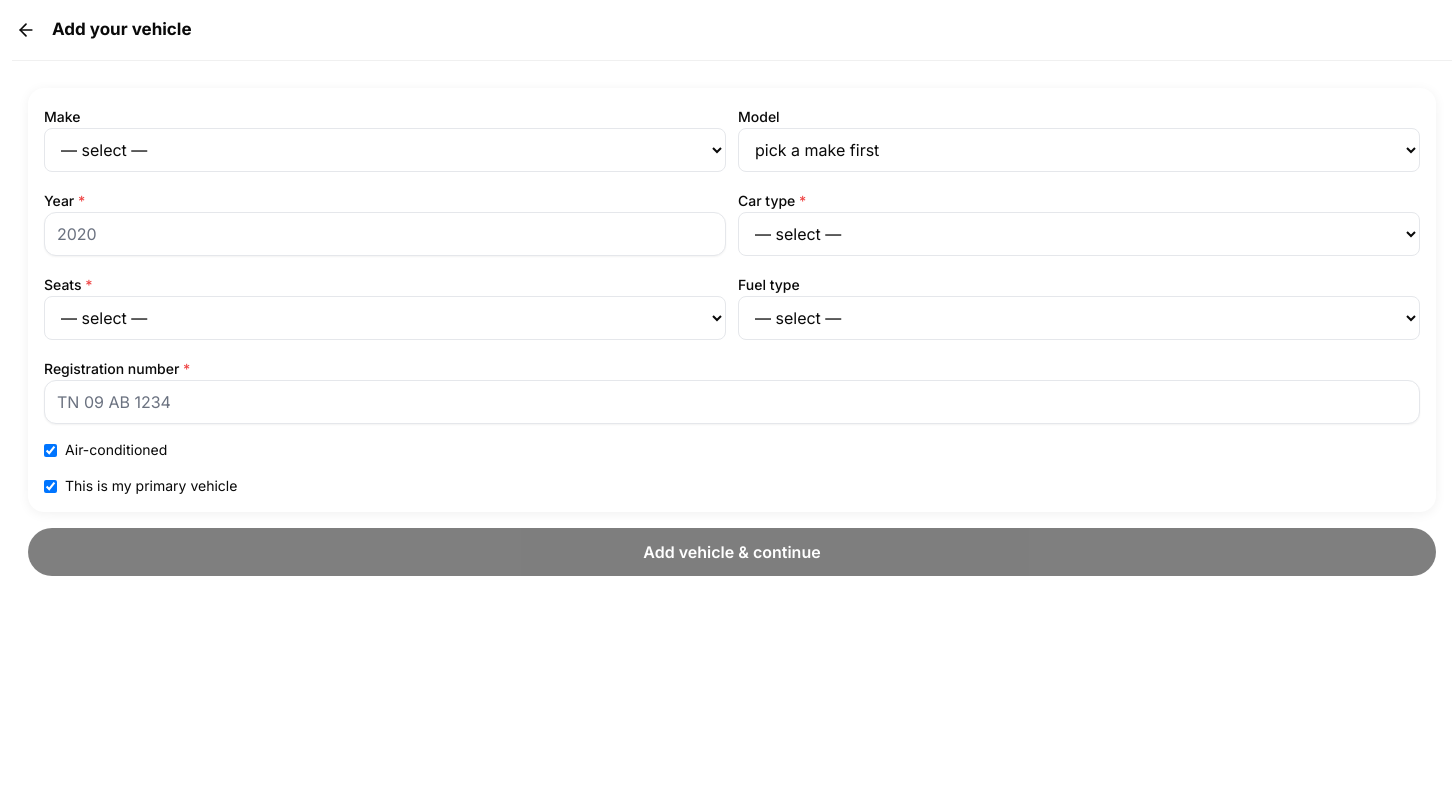
Test: VehicleFormPage (add) › rejects a year older than the minimum and keeps the submit button disabled
The image size is (1452, 810).
Expected: the heading "Add your vehicle" is shown, top-left (52, 19), bottom-right (192, 39)
Expected: the button "Add vehicle & continue" is disabled, top-left (28, 528), bottom-right (1436, 576)
Type "2010" into the field labelled "Year *".
click(385, 234); type("2010")  # box top-left (44, 212), bottom-right (726, 256)
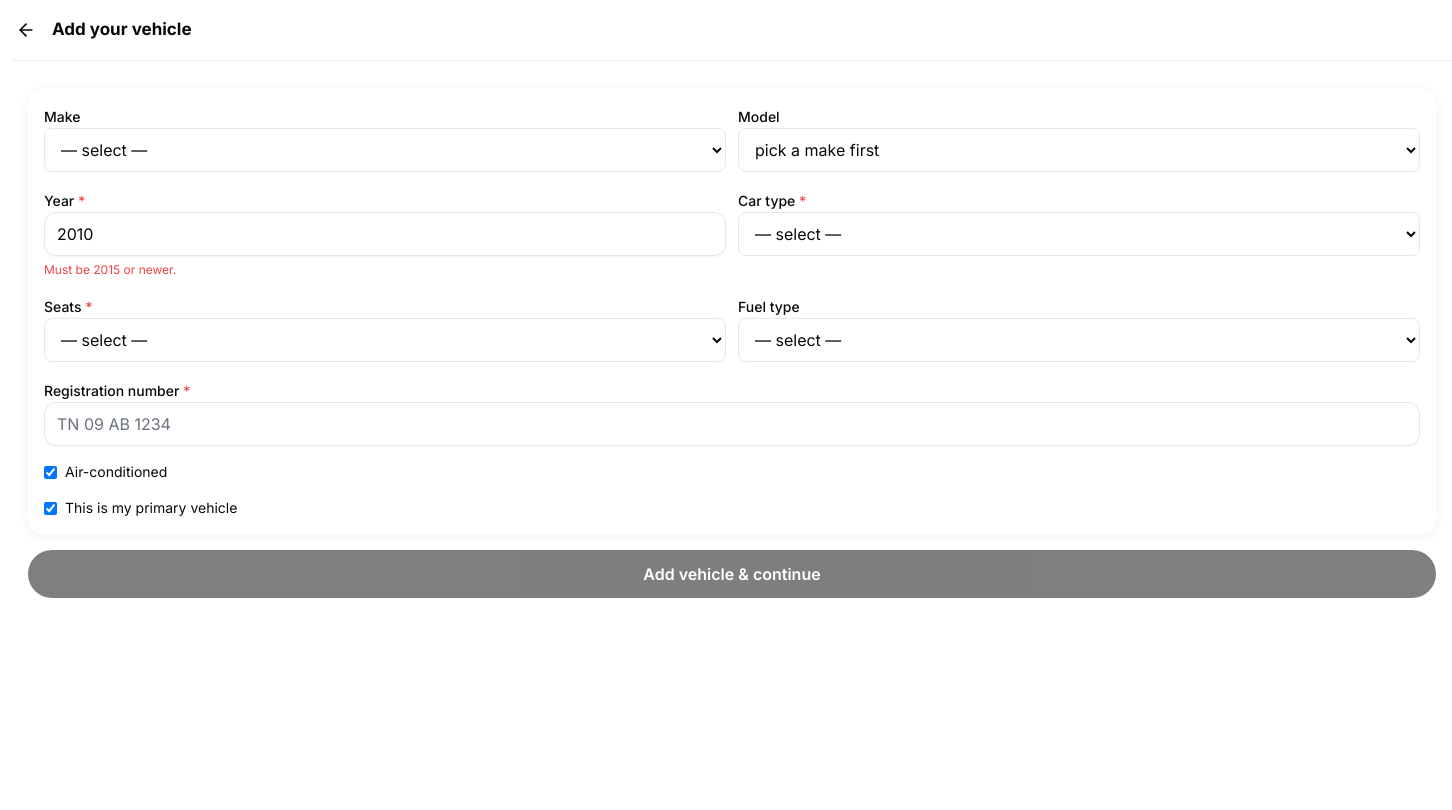
Expected: the button "Add vehicle & continue" is disabled, top-left (28, 550), bottom-right (1436, 598)
Expected: the text "Must be 2015 or newer." is shown, top-left (44, 262), bottom-right (176, 277)
